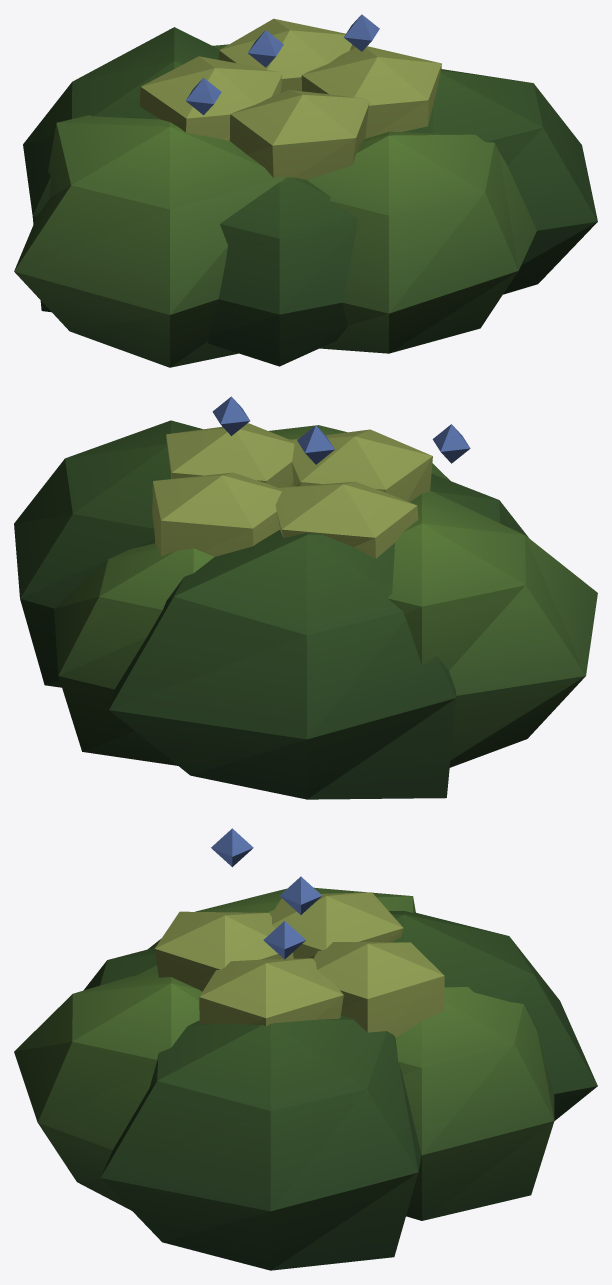
Rendered from fern_bush.glb.
3 views of the same model, one above another, from view 1: azimuth 30°, elevation 25°; view 2: azimuth 150°, elevation 25°; view 3: azimuth 270°, elevation 25° (orthographic). The views are drawn at different scales.
Parts seen in each view (by area): view 1: fern_bush; view 2: fern_bush; view 3: fern_bush.
Part boxes in pixels (x1,y1,x2,y2): fern_bush: (14, 14, 597, 367); fern_bush: (14, 396, 597, 799); fern_bush: (14, 828, 597, 1270).
Size of the model in its own units: 1.54 by 0.7879 by 1.36.
